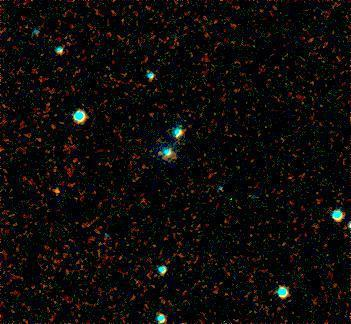star: (42, 177, 72, 207)
